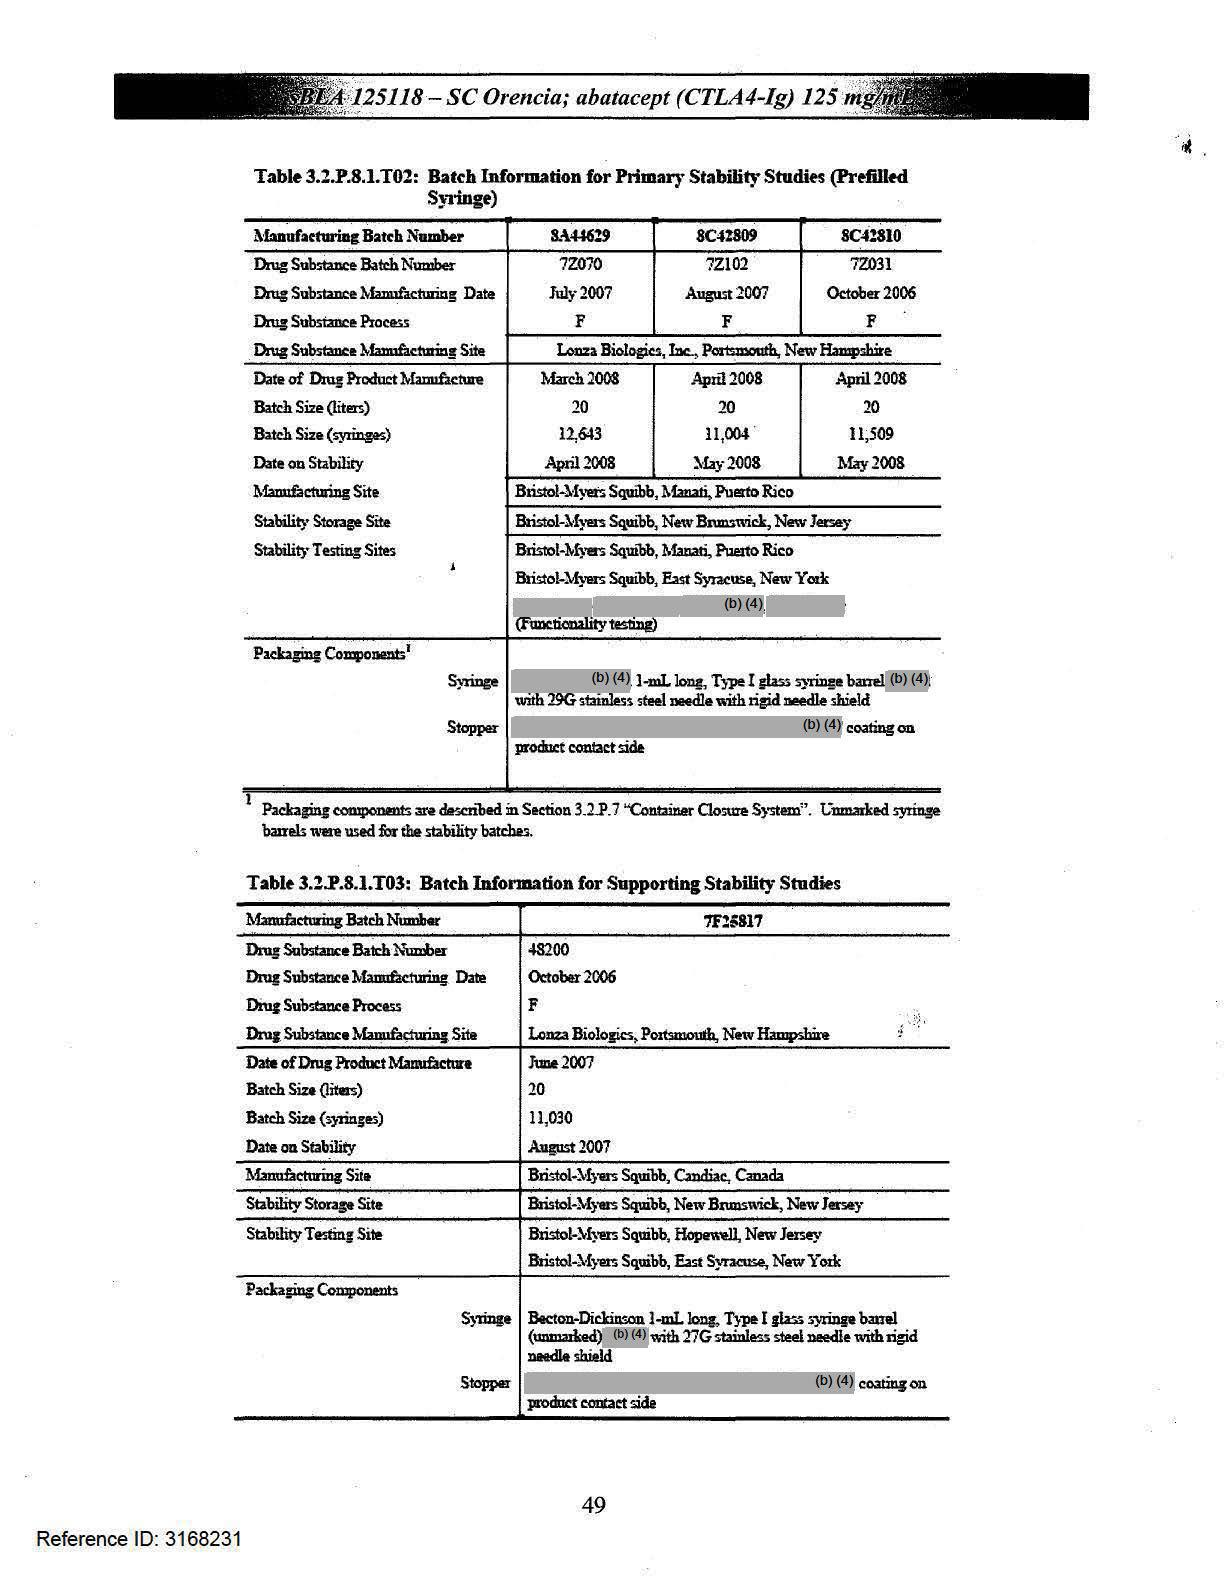partial_lined: (234, 901, 950, 1423)
partial_lined_merged_cells: (245, 214, 943, 794)
